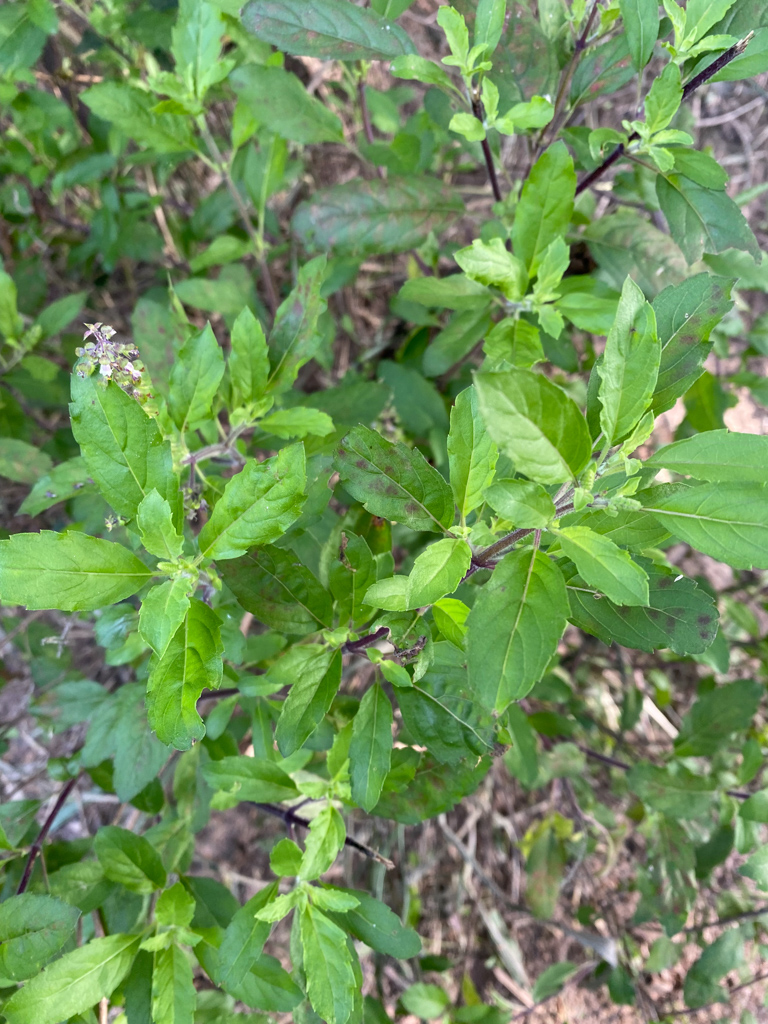Canker: (583, 566, 715, 643), (213, 543, 308, 626), (349, 446, 428, 520), (386, 756, 476, 819), (283, 281, 313, 360)
